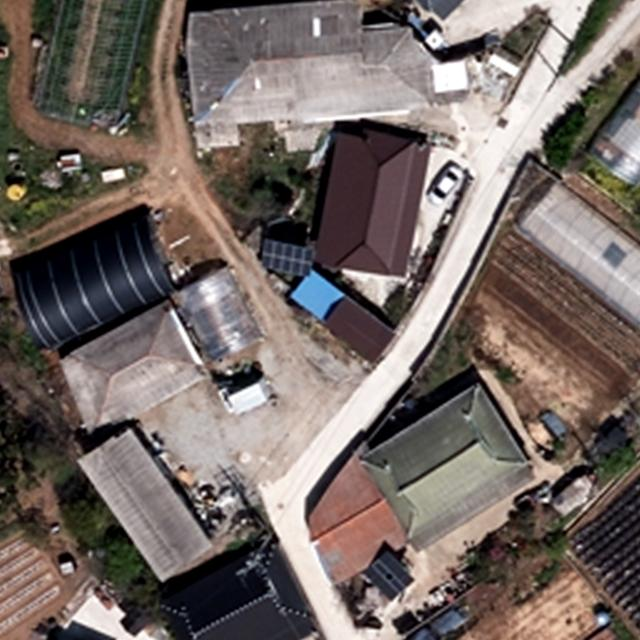panel: (361, 552, 416, 603), (259, 234, 316, 282)
